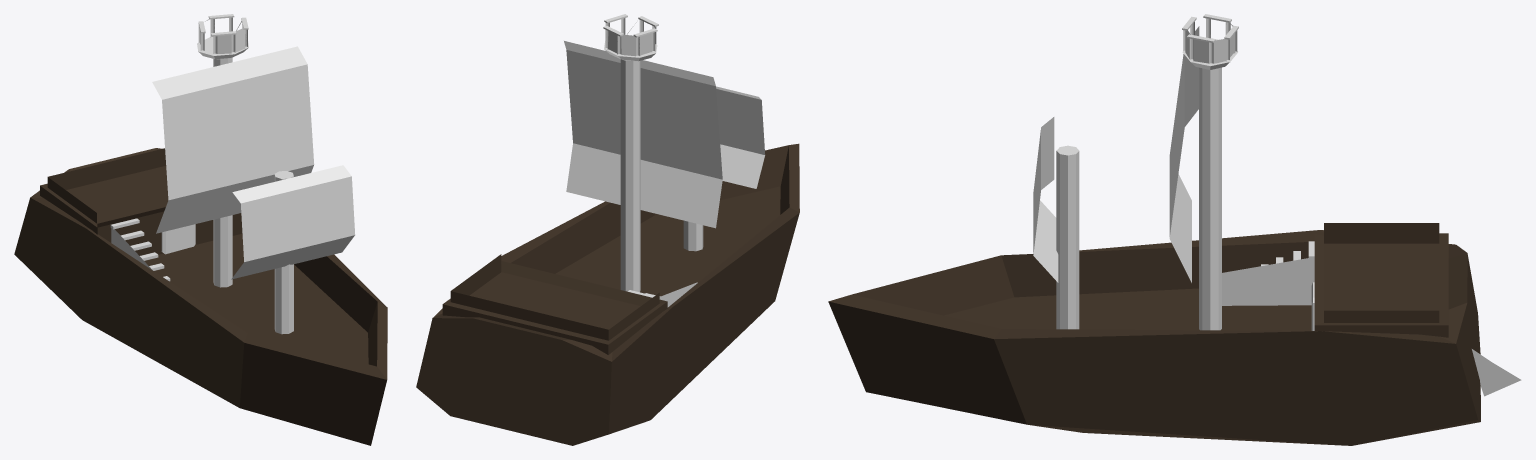
Rendered from partboat.glb.
3 renders of one model, left to right at view 1: azimuth 30°, elevation 25°; view 2: azimuth 150°, elevation 25°; view 3: azimuth 270°, elevation 25°, orthographic. The views are drawn at different scales.
Visible parts, largest first — view 1: Cube, Plane; view 2: Cube, Plane; view 3: Cube, Plane.
Part boxes in pixels (left/top/right/bottom): Cube: left=14, top=14, right=387, bottom=445; Plane: left=152, top=46, right=355, bottom=279; Cube: left=416, top=14, right=799, bottom=445; Plane: left=564, top=41, right=765, bottom=228; Cube: left=828, top=14, right=1521, bottom=445; Plane: left=1033, top=26, right=1199, bottom=282.
Bounding box in the file's own units: 4.83 × 8.56 × 13.28.
